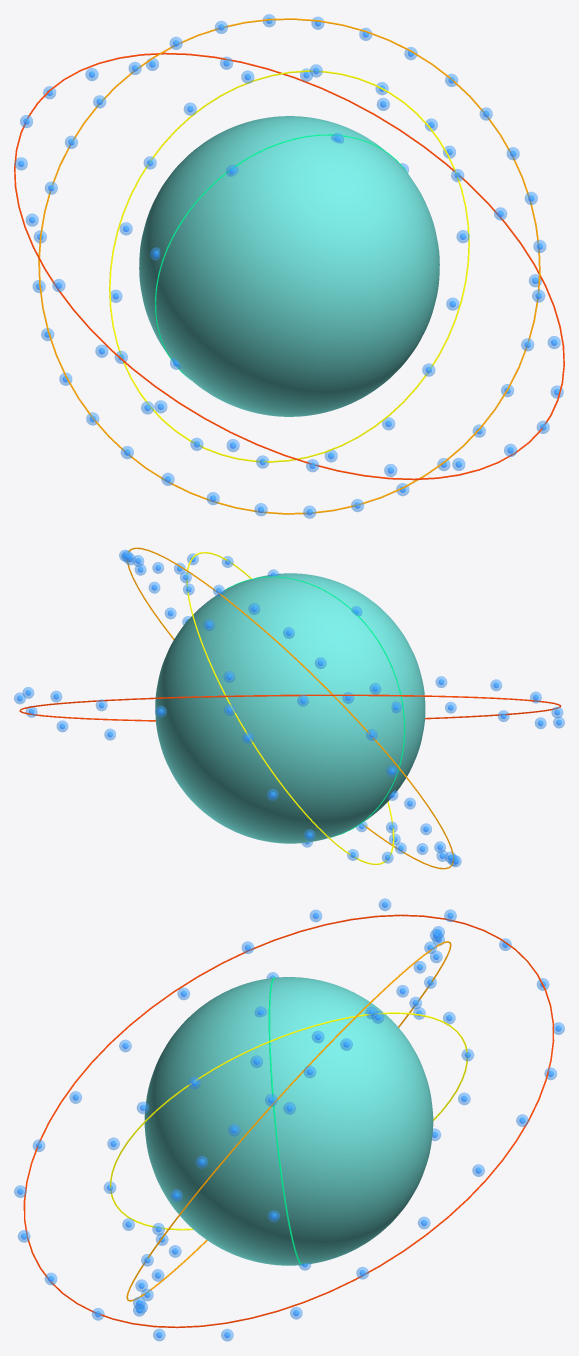
The picture shows the model from 3 angles, top to bottom: view 1: azimuth 30°, elevation 25°; view 2: azimuth 150°, elevation 25°; view 3: azimuth 270°, elevation 25°; orthographic projection. The views are drawn at different scales.
Parts seen in each view (by area): view 1: Bi, object 126, object 61, object 24, object 7; view 2: Bi, object 126, object 61, object 24, object 7; view 3: Bi, object 126, object 61, object 24, object 7.
Part boxes in pixels (box(x1,y1,x2,y2)): Bi: box(139, 116, 439, 416); object 126: box(14, 52, 564, 480); object 61: box(38, 18, 540, 514); object 24: box(109, 70, 469, 462); object 7: box(155, 134, 409, 379); Bi: box(155, 573, 425, 843); object 126: box(19, 694, 561, 721); object 61: box(127, 547, 454, 869); object 24: box(186, 552, 394, 864); object 7: box(224, 576, 405, 837); Bi: box(144, 977, 433, 1265); object 126: box(23, 914, 554, 1328); object 61: box(126, 941, 451, 1301); object 24: box(110, 1012, 467, 1230); object 7: box(268, 977, 301, 1265).
Size of the model in its own units: 7.09 by 5.02 by 6.87.
